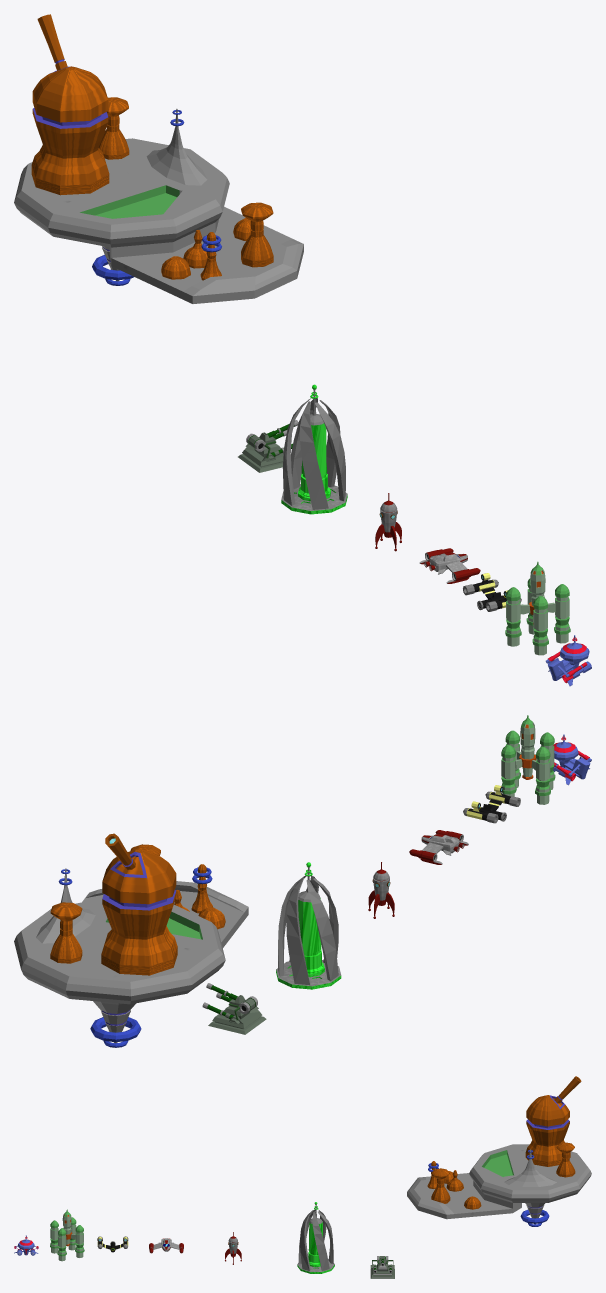
Rendered from complexos.fbx.
3 views of the same model, one above another, from view 1: azimuth 30°, elevation 25°; view 2: azimuth 150°, elevation 25°; view 3: azimuth 270°, elevation 25° (orthographic). The views are drawn at different scales.
Visible parts, largest first — view 1: FloatingCity, Tower, ShipIII, Canon, ShipIV, ShipI, ShipII; view 2: FloatingCity, Tower, ShipIII, Canon, ShipIV, ShipI, ShipII, Player; view 3: FloatingCity, Tower, ShipIII, Canon, ShipI, ShipIV.
Boxes of the visible parts, box(x1,y1,x2,y2) form: FloatingCity: box(14, 14, 303, 303); Tower: box(281, 384, 347, 514); ShipIII: box(505, 561, 570, 655); Canon: box(238, 420, 298, 472); ShipIV: box(545, 635, 591, 686); ShipI: box(419, 548, 480, 583); ShipII: box(463, 573, 521, 611); FloatingCity: box(14, 833, 248, 1047); Tower: box(276, 862, 341, 989); ShipIII: box(501, 715, 555, 804); Canon: box(202, 983, 266, 1034); ShipIV: box(553, 734, 591, 785); ShipI: box(409, 830, 468, 864); ShipII: box(463, 785, 520, 823); Player: box(368, 862, 394, 918); FloatingCity: box(407, 1076, 591, 1226); Tower: box(297, 1202, 334, 1273); ShipIII: box(50, 1209, 84, 1261); Canon: box(370, 1256, 394, 1278); ShipI: box(149, 1238, 183, 1253); ShipIV: box(14, 1235, 38, 1255).
Bounding box in the file's own units: 5096 × 8155 × 23195.
